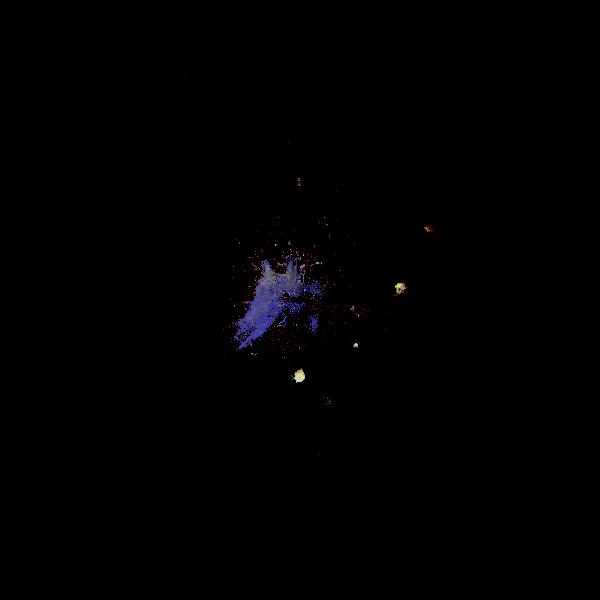roost: (290, 366, 311, 387), (420, 218, 441, 239), (392, 279, 413, 300), (351, 340, 363, 352)
